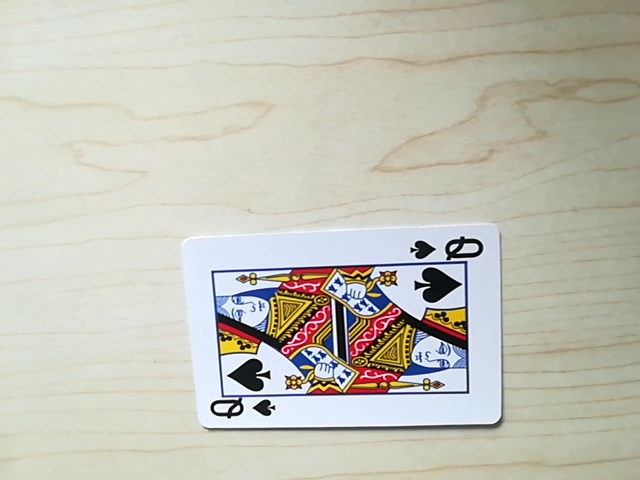ht q: (204, 392, 273, 427), (410, 232, 490, 262)
